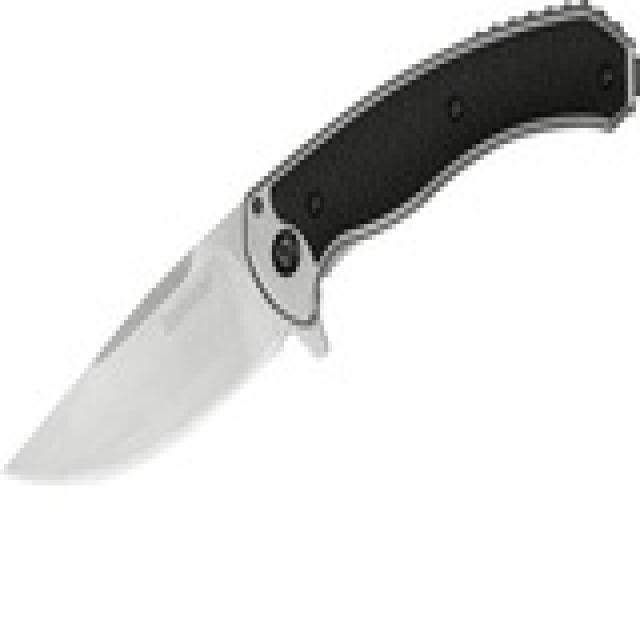Knife: (2, 6, 640, 499)
